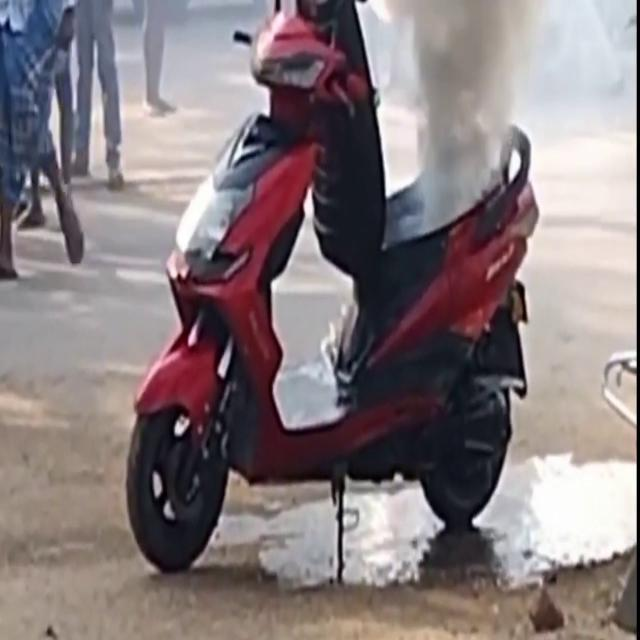Smoke: (391, 1, 561, 194)
